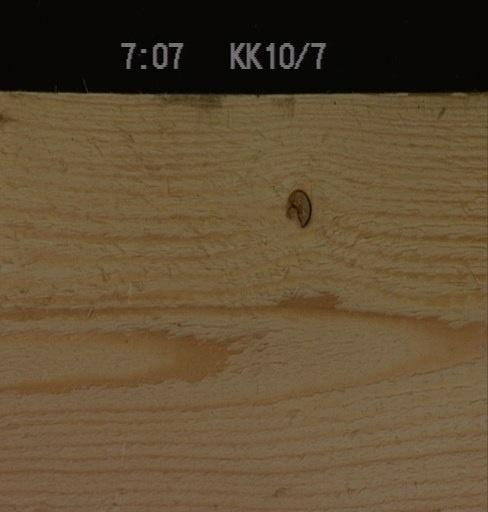dry_knot: (284, 187, 313, 229)
